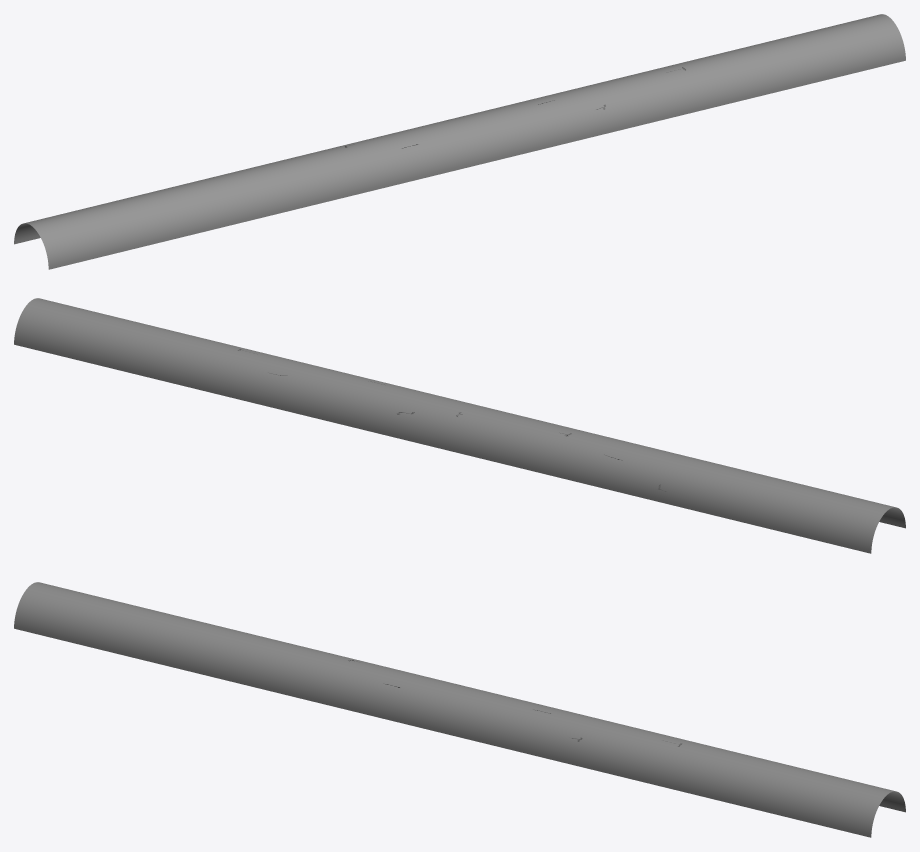
The model's file is tunnel_visual.obj.
3 views of the same model, one above another, from view 1: azimuth 30°, elevation 25°; view 2: azimuth 150°, elevation 25°; view 3: azimuth 330°, elevation 25° (orthographic).
Visible parts, largest first — view 1: Tunnel_Inner; view 2: Tunnel_Inner; view 3: Tunnel_Inner.
Part boxes in pixels (x1,y1,x2,y2): Tunnel_Inner: (14, 14, 905, 269); Tunnel_Inner: (14, 298, 905, 553); Tunnel_Inner: (14, 582, 905, 837).
Bounding box in the file's own units: 10 × 0.35 × 0.7.
1 material, 1 textured.
